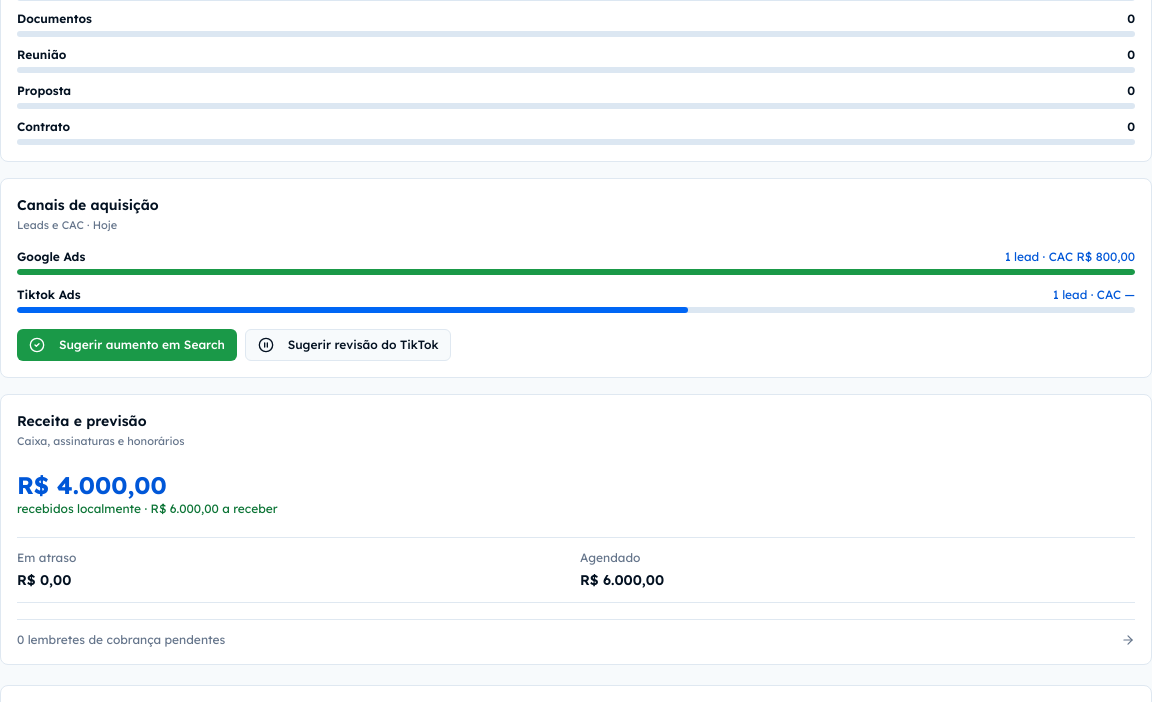
it: KLM page interactions › persists and locally approves channel recommendations without changing campaigns
The width and height of the screenshot is (1152, 702).
(page scrolled)
What coordinates should you click on to do the following:
click the button "Sugerir aumento em Search"
I would click on:
 (127, 344)
Its box is [17, 328, 237, 360].
(page scrolled)
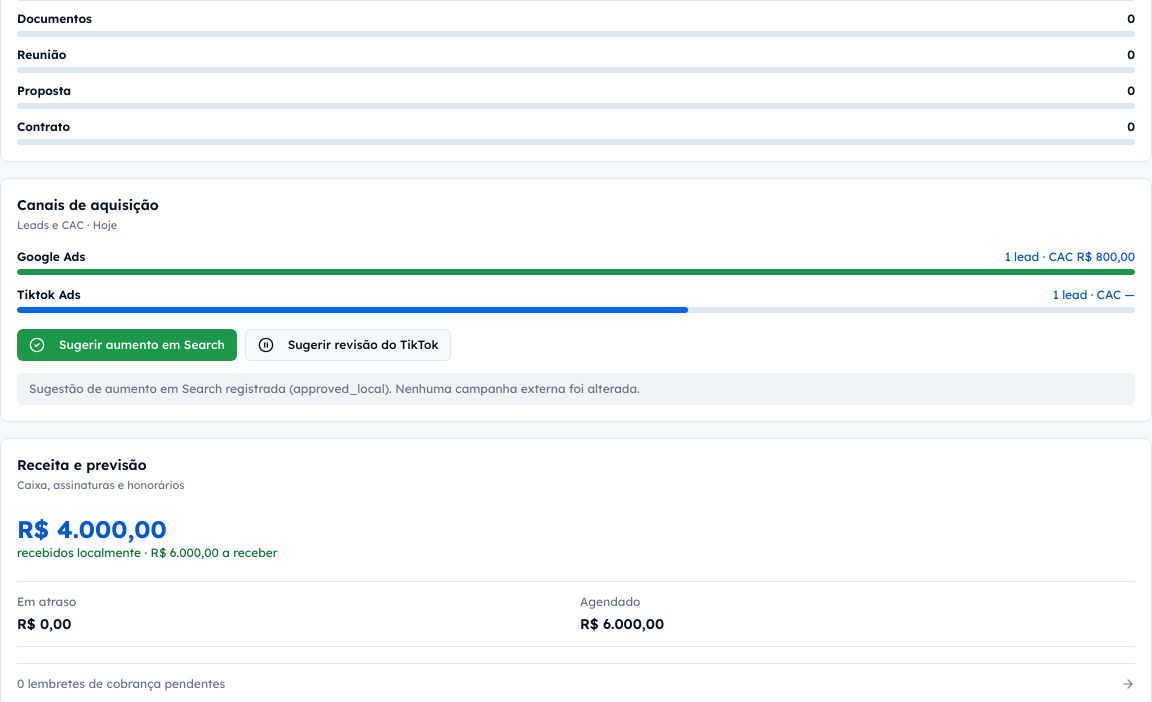
Expected: the text "Nenhuma campanha externa foi alterada" is shown, [29, 381, 640, 396]
